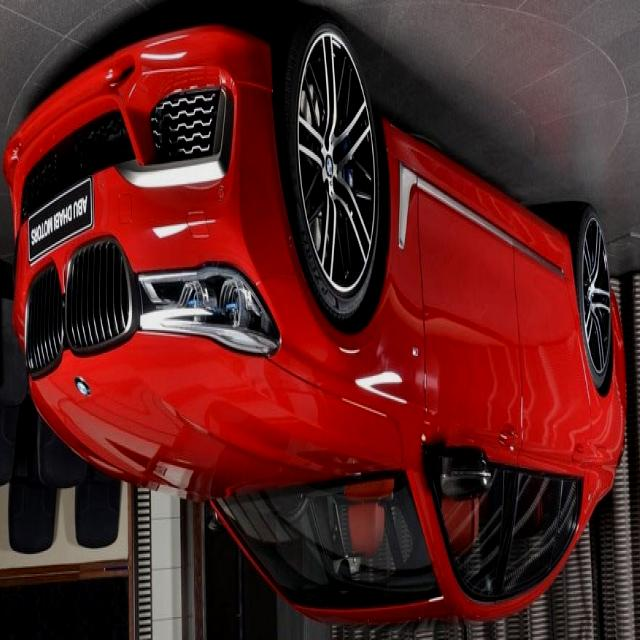red: (0, 36, 624, 627)
